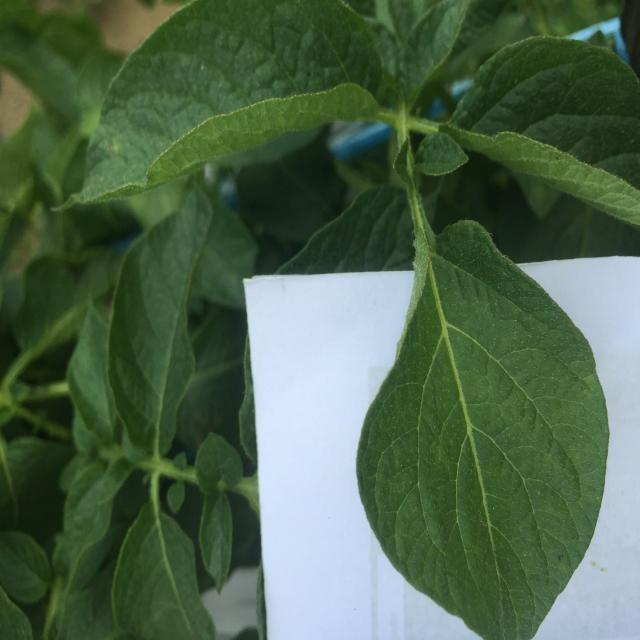healthy: (353, 217, 612, 638)
